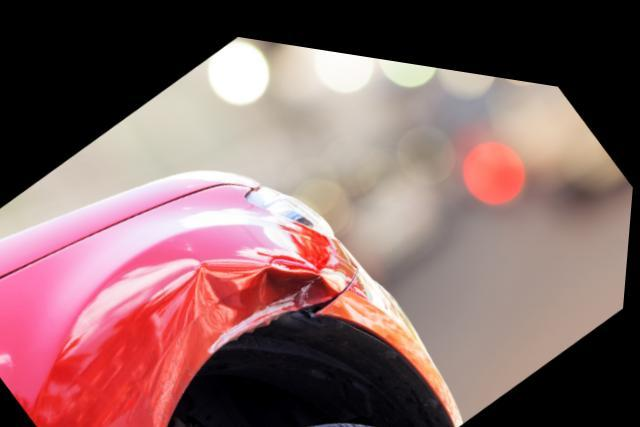dent: (197, 251, 341, 344)
